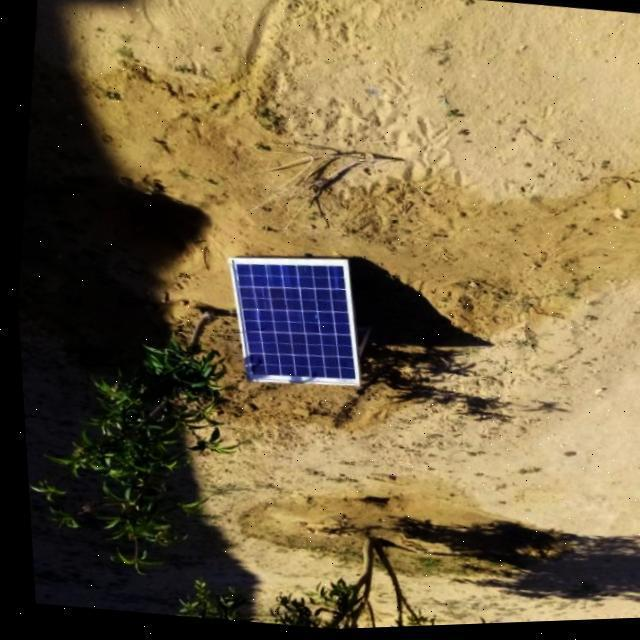Normal Solar Panel: (212, 247, 370, 396)
